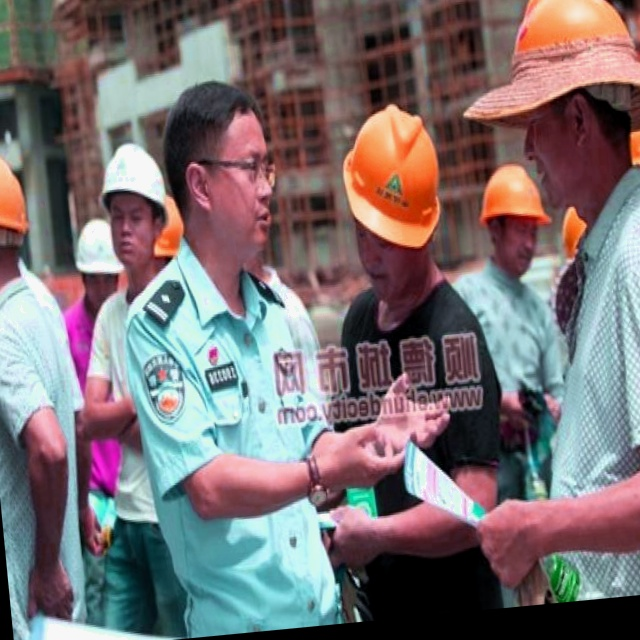Con_Casco: (337, 101, 447, 284), (97, 139, 171, 267), (0, 145, 34, 288)
Sin_Casco_Mascarrilla: (157, 76, 279, 268)
